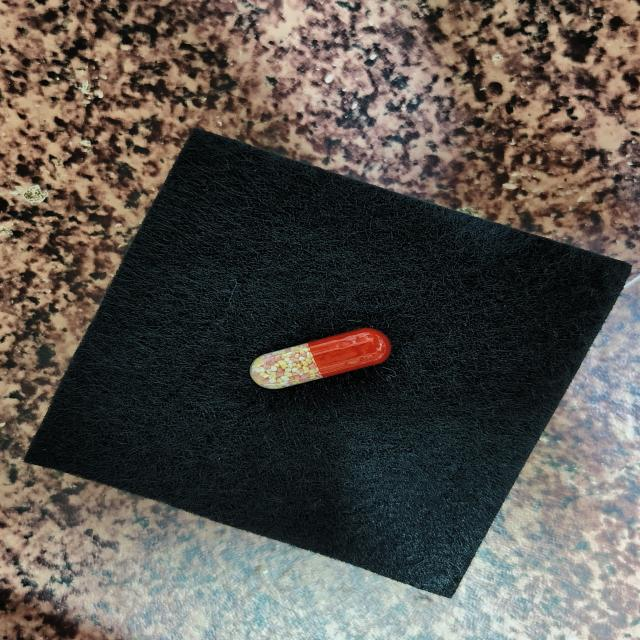Intact Capsule: (250, 328, 392, 389)
